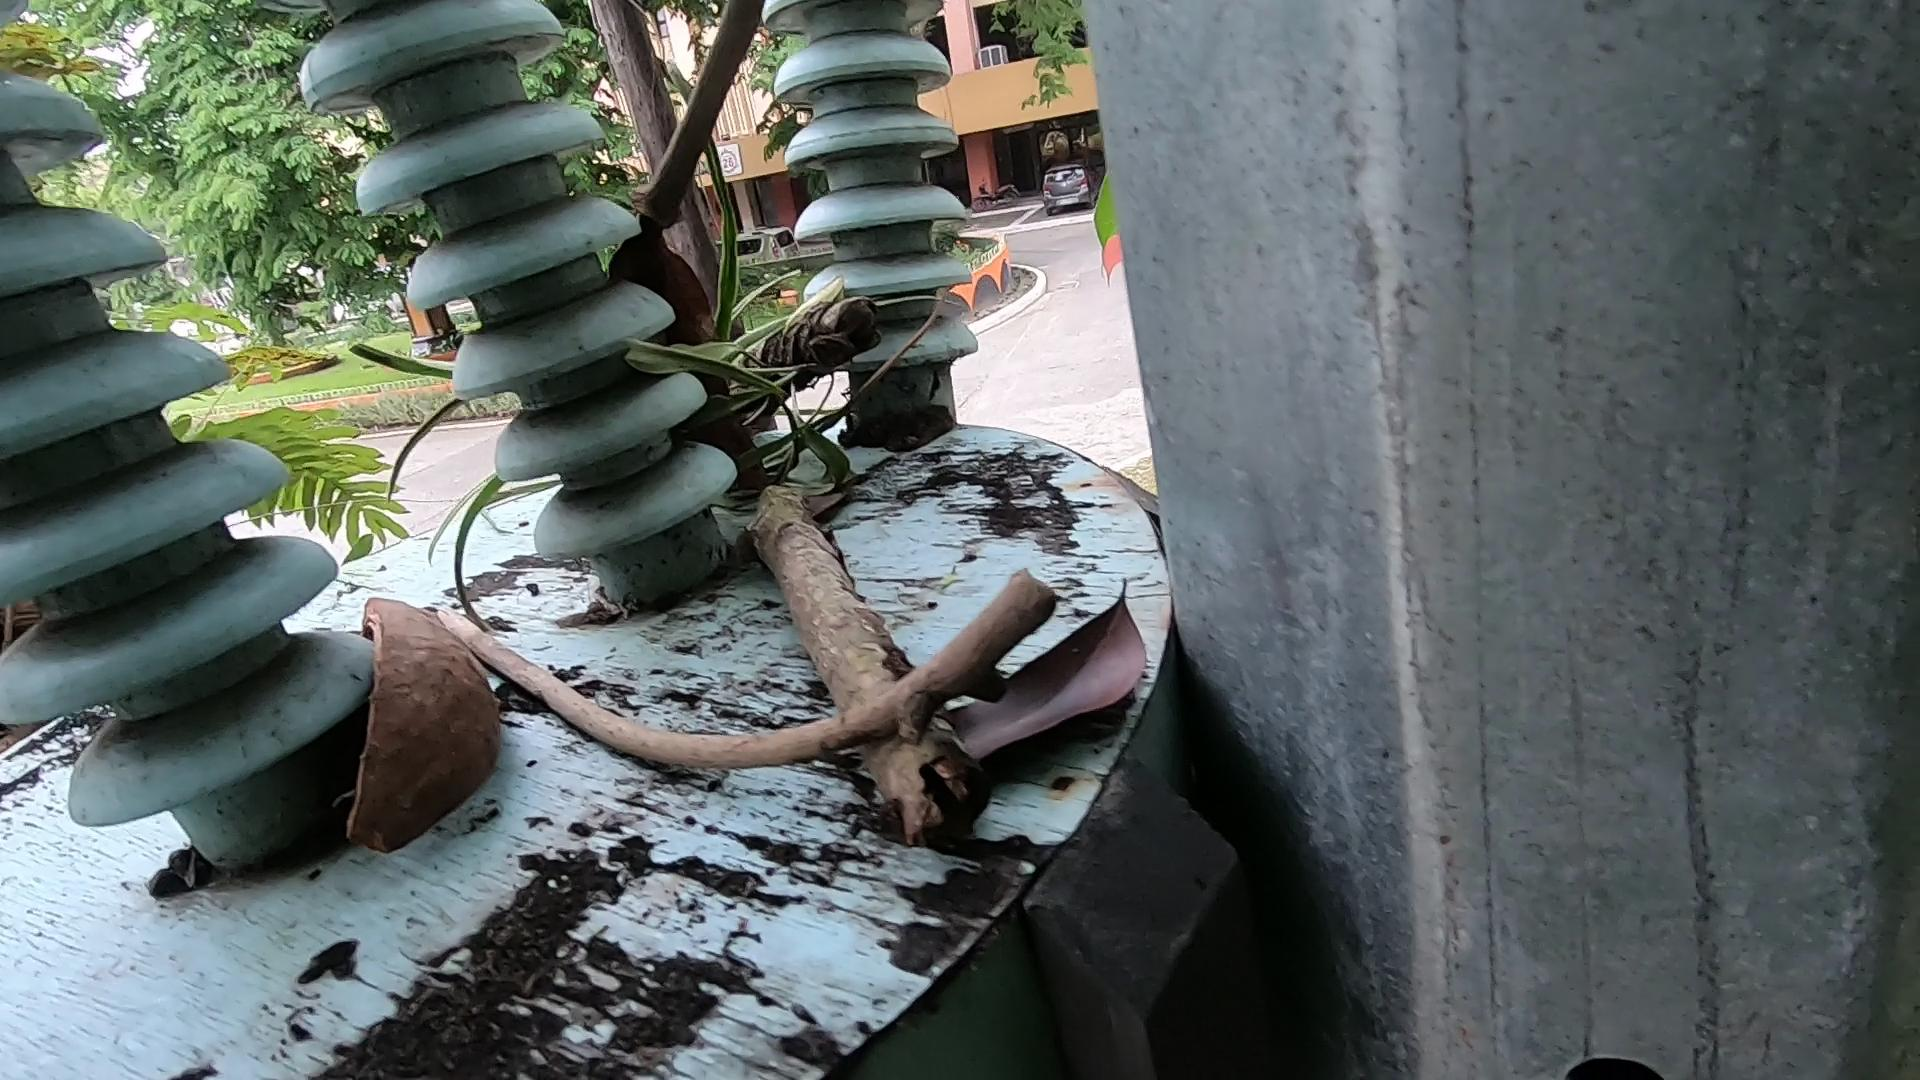branch with leaves: (703, 276, 1004, 843)
leaf: (916, 588, 1331, 878)
mahogany fruit: (253, 589, 785, 840)
tree branch: (415, 551, 1007, 891), (516, 44, 839, 309)
